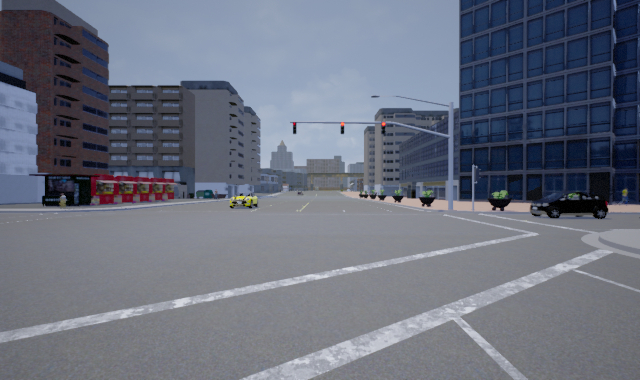pedestrian: (618, 186, 631, 205), (57, 189, 68, 209)
traffic_light: (380, 118, 386, 136), (339, 122, 346, 136), (292, 120, 298, 134)
vehicle: (529, 190, 607, 220), (227, 192, 258, 209)
